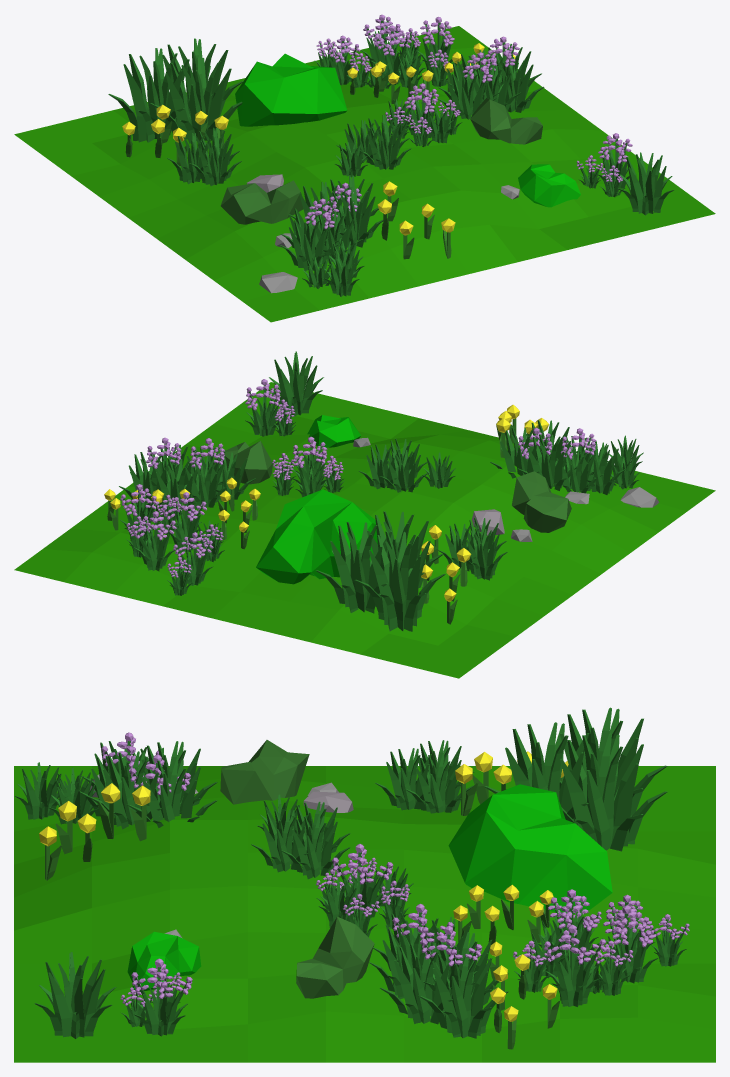
Rendered from MEADOW_FIELD04.fbx.
3 views of the same model, one above another, from view 1: azimuth 30°, elevation 25°; view 2: azimuth 150°, elevation 25°; view 3: azimuth 270°, elevation 25° (orthographic). The views are drawn at different scales.
Visible parts, largest first — view 1: Cylinder.015; view 2: Cylinder.015; view 3: Cylinder.015.
Boxes of the visible parts, box(x1,y1,x2,y2) form: Cylinder.015: box(14, 14, 715, 322); Cylinder.015: box(14, 351, 715, 678); Cylinder.015: box(14, 707, 715, 1062).
Bounding box in the file's own units: 1000 × 207 × 1000.
